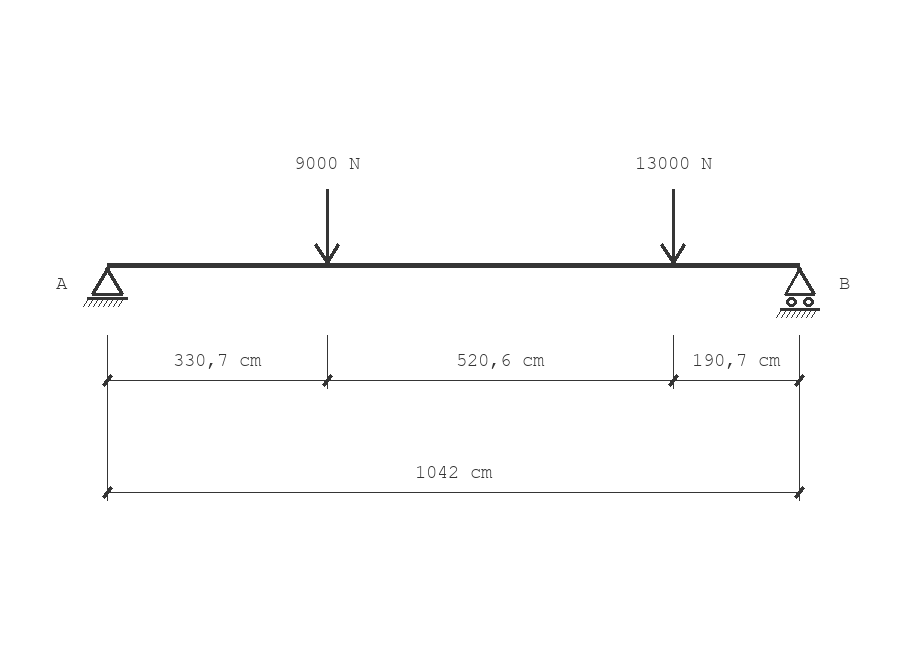pin_support: (83, 267, 128, 307)
point_load: (314, 189, 340, 264), (660, 189, 686, 264)
roller_support: (776, 267, 820, 318)
